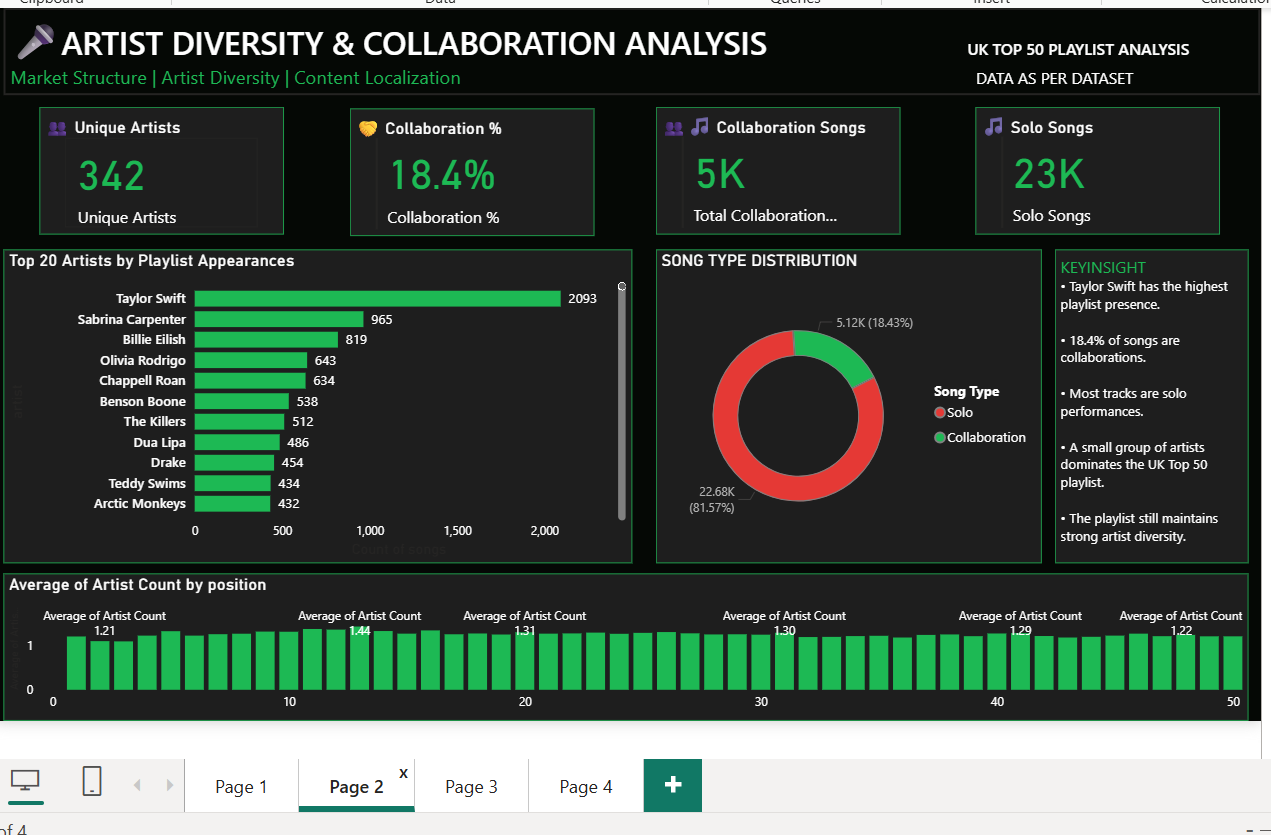

The page's visual inventory and layout, read from the dashboard file:
{"tool":"powerbi","page":{"name":"Page 2","canvas":[1280,720],"ordinal":1},"visuals":[{"type":"textbox","box":[11,0,1268.9,87.8],"z":0},{"type":"clusteredBarChart","title":"Top 20 Artists by Playlist Appearances","fields":{"Category":["Atlantic_United_Kingdom.artist"],"Y":["CountNonNull(Atlantic_United_Kingdom.song)"]},"box":[10.6,243.8,634.5,316.5],"z":1000},{"type":"donutChart","title":"SONG TYPE DISTRIBUTION","fields":{"Category":["Atlantic_United_Kingdom.Song Type"],"Y":["CountNonNull(Atlantic_United_Kingdom.song)"]},"box":[669.3,243.8,389.2,316.5],"z":2000},{"type":"clusteredColumnChart","fields":{"Category":["Atlantic_United_Kingdom.position"],"Y":["Avg(Atlantic_United_Kingdom.Artist Count)"]},"box":[10.6,570.9,1256.8,148.4],"z":3000},{"type":"textbox","box":[1072.1,243.8,195.3,316.5],"z":4000},{"type":"cardVisual","title":"👥 Unique Artists","fields":{"Data":["Atlantic_United_Kingdom.Unique Artists"]},"box":[46.9,99.9,246.8,128.7],"z":5000},{"type":"cardVisual","title":"🤝 Collaboration %","fields":{"Data":["Atlantic_United_Kingdom.Collaboration %"]},"box":[360.4,101.5,246.8,128.7],"z":6000},{"type":"cardVisual","title":"👥🎵 Collaboration Songs","fields":{"Data":["Atlantic_United_Kingdom.Total Collaboration Songs"]},"box":[669.3,99.9,246.8,128.7],"z":7000},{"type":"cardVisual","title":"🎵 Solo Songs","fields":{"Data":["Atlantic_United_Kingdom.Solo Songs"]},"box":[991.8,99.9,246.8,128.7],"z":8000}]}

Visuals, with their boxes on the page's 1280x720 design canvas (x1, y1, x2, y2). These are canvas units, not pixel positions in the 1271x835 screenshot, which may show the page scaled, cropped or inside an application window:
textbox: (11,0,1280,88)
"Top 20 Artists by Playlist Appearances" clusteredBarChart: (11,244,645,560)
"SONG TYPE DISTRIBUTION" donutChart: (669,244,1058,560)
clusteredColumnChart - Atlantic_United_Kingdom.position x Avg(Atlantic_United_Kingdom.Artist Count): (11,571,1267,719)
textbox: (1072,244,1267,560)
"👥 Unique Artists" cardVisual: (47,100,294,229)
"🤝 Collaboration %" cardVisual: (360,102,607,230)
"👥🎵 Collaboration Songs" cardVisual: (669,100,916,229)
"🎵 Solo Songs" cardVisual: (992,100,1239,229)
